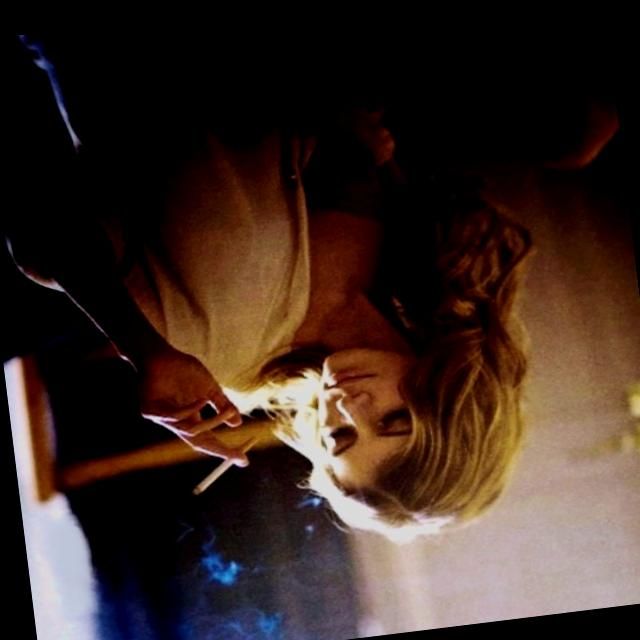smoke: (187, 456, 240, 500)
